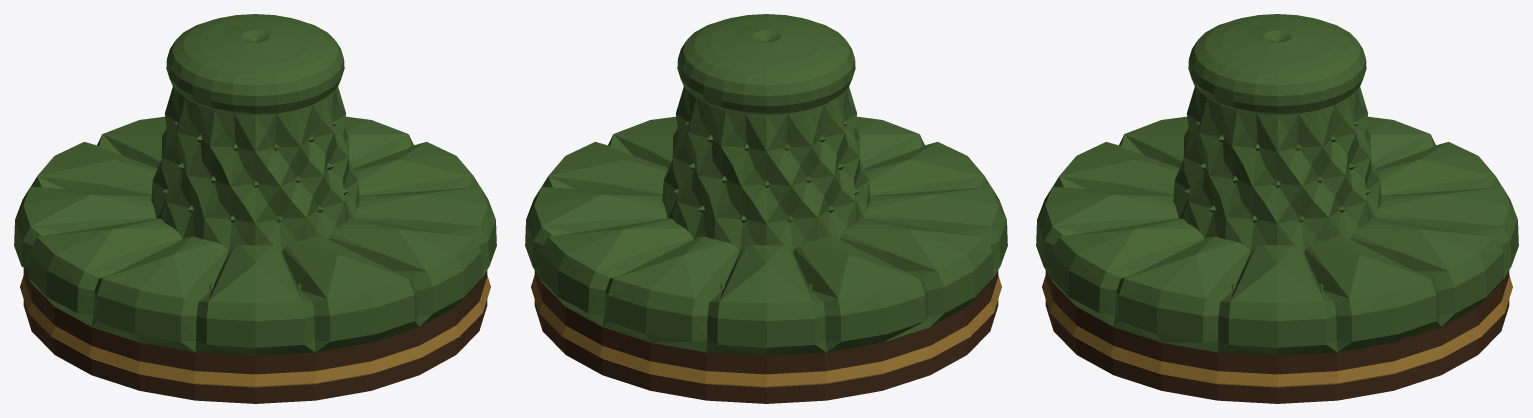
The model's file is lobby-borne-settee-1bf6b3.glb.
3 views of the same model, side by side, from view 1: azimuth 30°, elevation 25°; view 2: azimuth 150°, elevation 25°; view 3: azimuth 270°, elevation 25° (orthographic).
Parts seen in each view (by area): view 1: borne; view 2: borne; view 3: borne.
Part boxes in pixels (x1,y1,x2,y2): borne: (14,14,496,403); borne: (525,14,1007,403); borne: (1036,14,1518,403).
Size of the model in its own units: 2 by 1.23 by 2.
